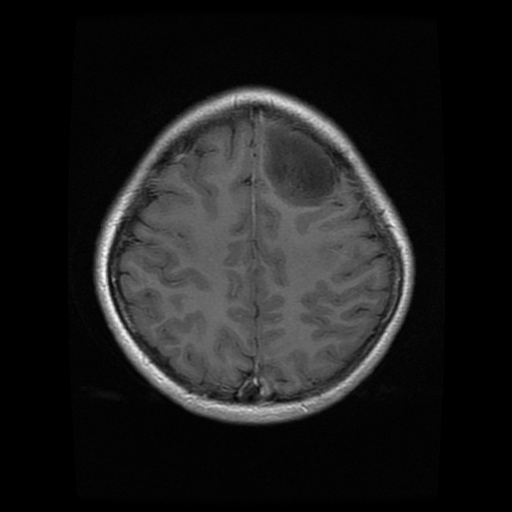glioma: (261, 124, 341, 205)
